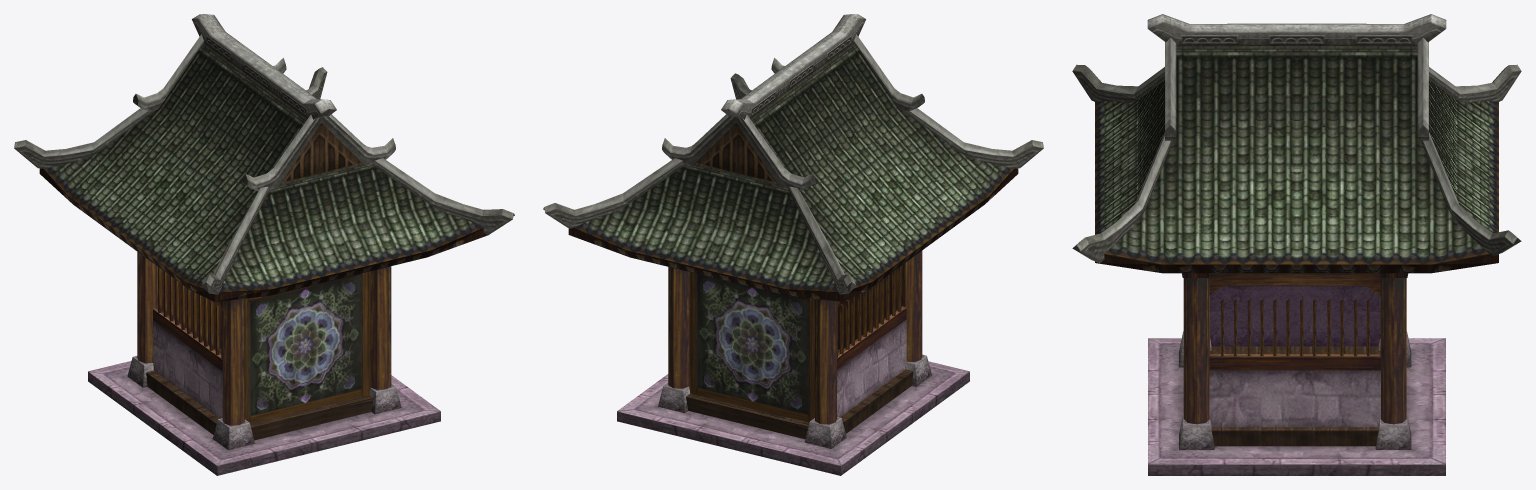
Rendered from c1-004-house2.fbx.
3 renders of one model, left to right at view 1: azimuth 30°, elevation 25°; view 2: azimuth 150°, elevation 25°; view 3: azimuth 270°, elevation 25°, orthographic. The views are drawn at different scales.
Visible parts, largest first — view 1: Object02; view 2: Object02; view 3: Object02.
Part boxes in pixels (left/top/right/bottom): Object02: left=14, top=14, right=514, bottom=475; Object02: left=543, top=14, right=1043, bottom=475; Object02: left=1072, top=14, right=1521, bottom=475.
Size of the model in its own units: 5.23 by 5.5 by 5.63.
